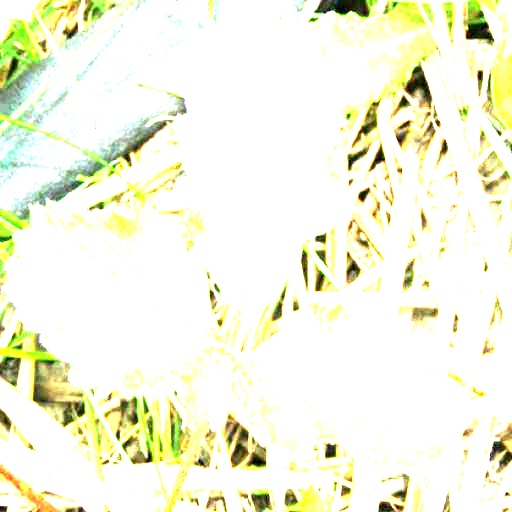Leaf Spot: (174, 0, 350, 347), (0, 195, 234, 433), (233, 293, 473, 476)
